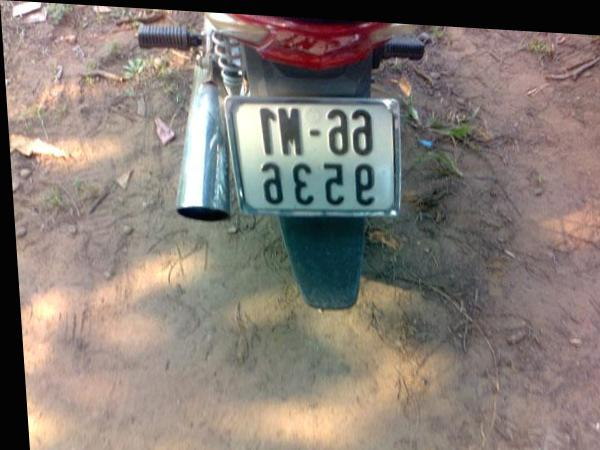License_Plate: (232, 91, 401, 217)
